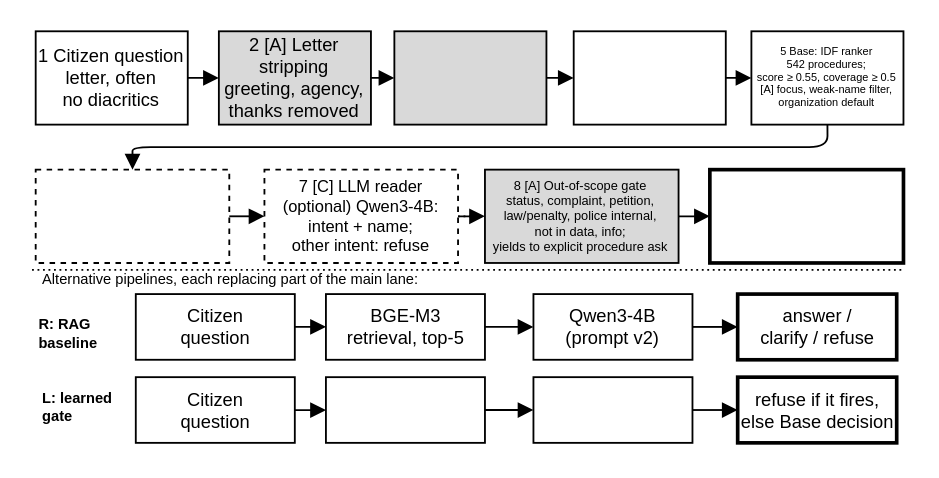
Some shapes in this 939 by 478 pixel diagram are drawn without their labels. Here are the shapes that lost their labels. From the top down, the centre of each, then its label:
At point 469,77: "3 [A] Citizen lexicon 19 patterns (A2: +9) to official names".
At point 649,77: "4 Base: normalize and segment abbreviations, synonyms, fields".
At point 131,215: "6 [B] Reranker (optional) rule top-8 + BGE-M3 top-10, bge-reranker-v2-m3".
At point 805,215: "9 Policy answer: procedure id clarify: candidates refuse: reason".
At point 404,409: "Base: normalize, segment, rank".
At point 612,409: "naive Bayes or logistic reg.".
